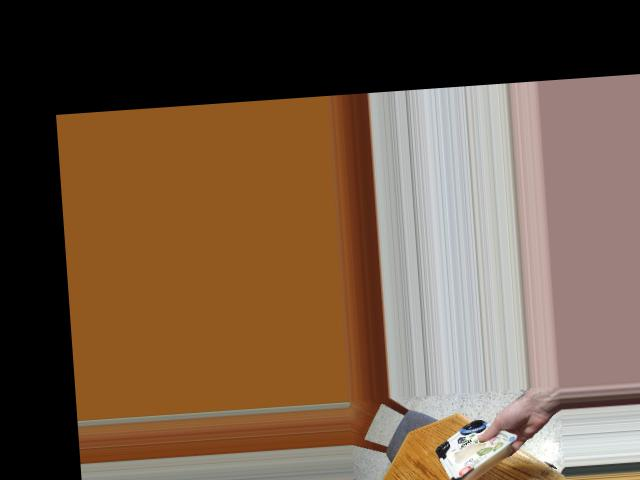cheese: (428, 415, 515, 480)
